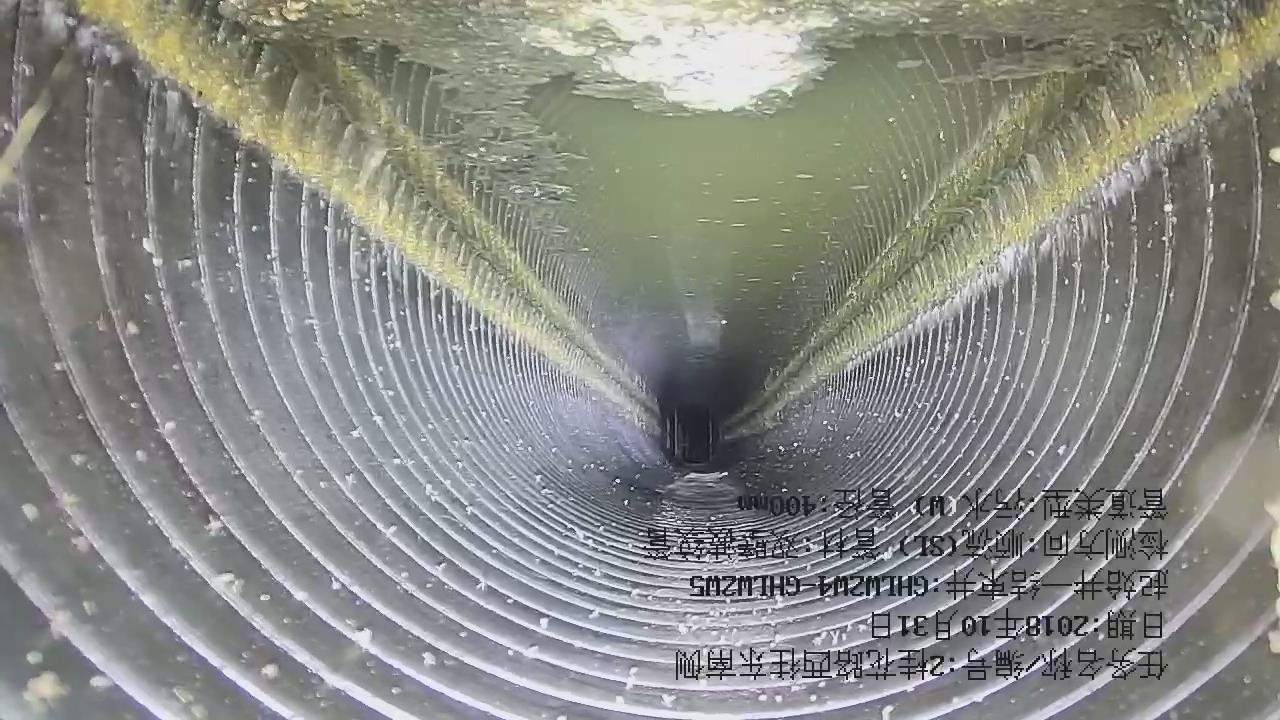FZ: (238, 1, 1168, 414)
